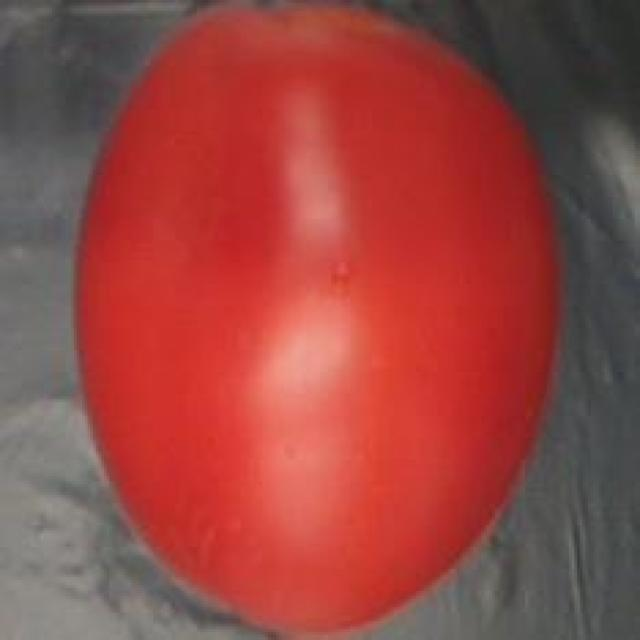ripe tomato: (66, 0, 572, 640)
